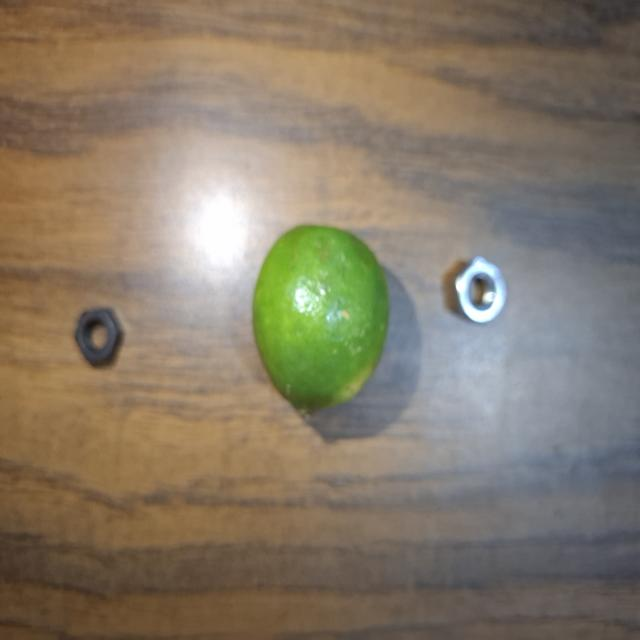limon: (252, 220, 393, 428)
milimetrico: (68, 296, 136, 379)
tuerca: (442, 252, 522, 337)
